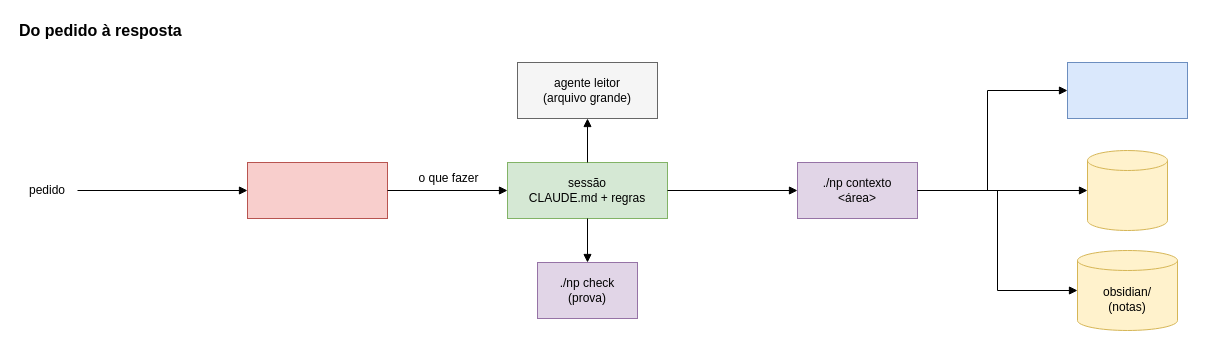
Image size: 1205x348. Some labels were removed from this diagram. Here are the shapes that lost their labels. From the top down, the centre of each, then its label:
At (x=1127, y=90): "código (por trecho)".
At (x=317, y=190): "escopo da branch (Pedido + áreas)".
At (x=1127, y=190): "kb/libs (cards)".
